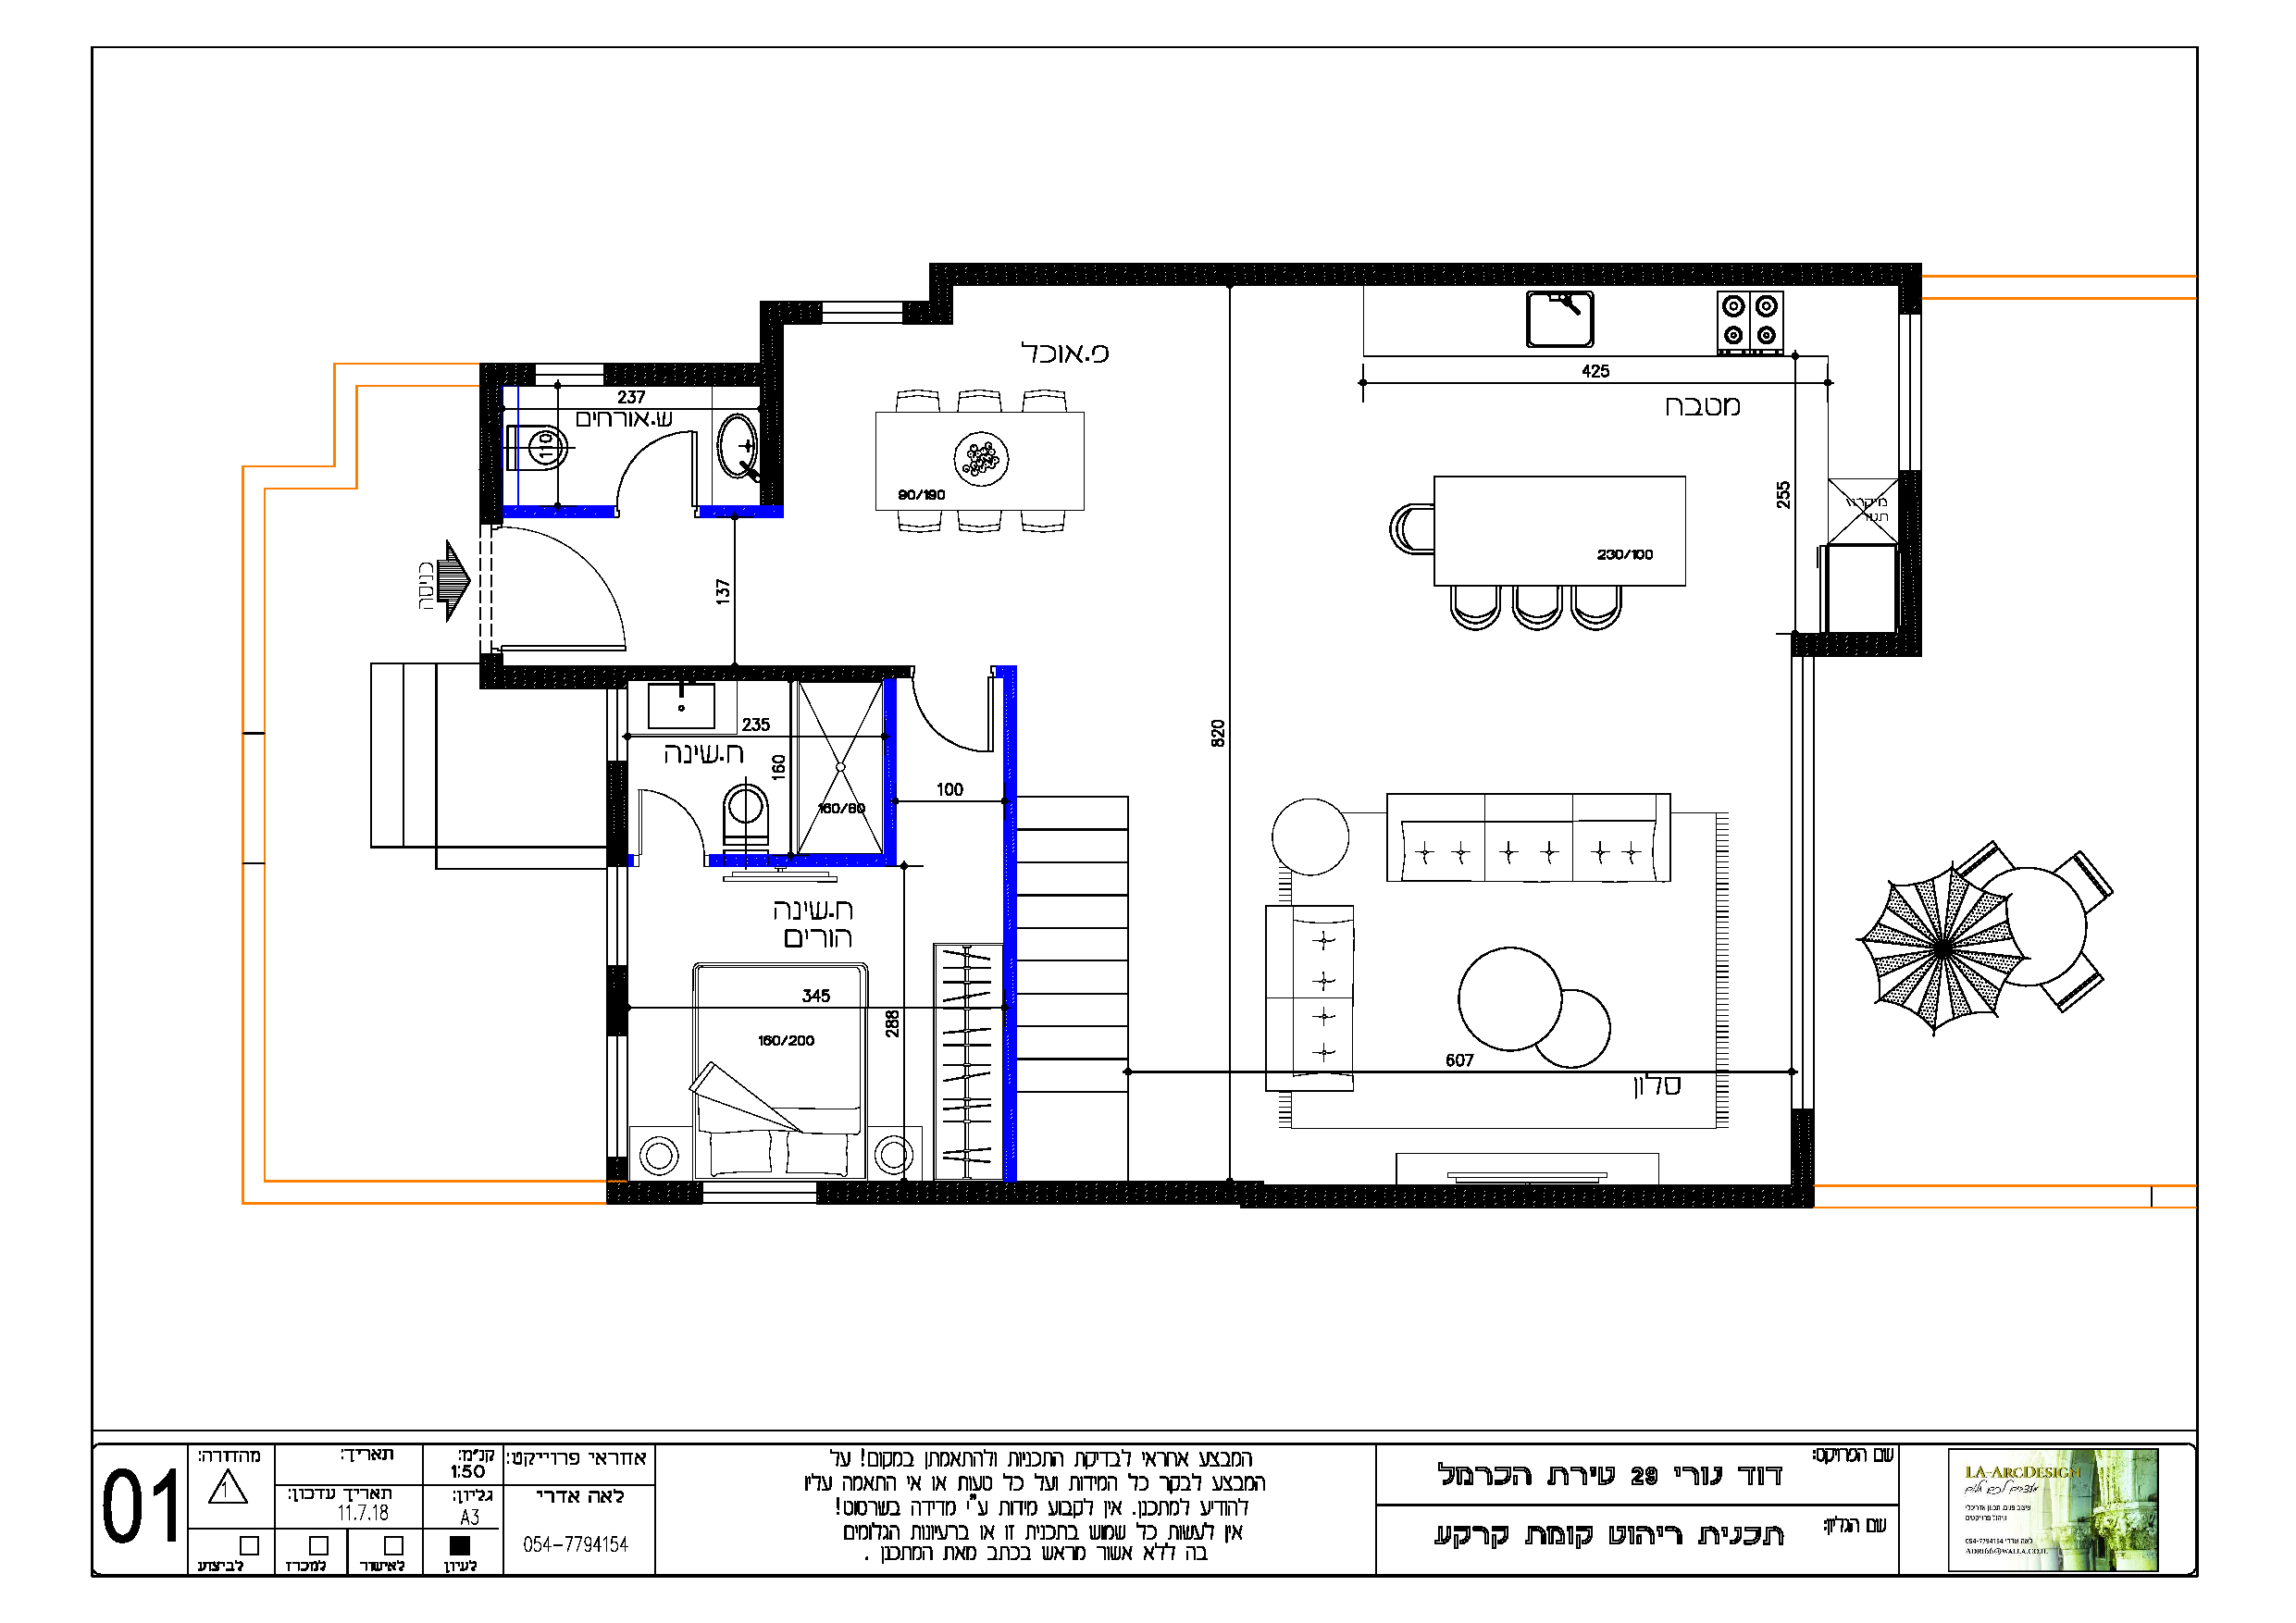door: (485, 522, 636, 660), (908, 678, 1005, 766), (606, 423, 704, 506), (634, 782, 710, 854)
wall: (938, 260, 1924, 286), (836, 1184, 1809, 1205), (1894, 485, 1920, 652), (759, 313, 782, 504), (611, 358, 762, 383), (481, 357, 499, 502), (492, 669, 599, 682), (1792, 1117, 1811, 1184)
window: (1787, 653, 1816, 1103), (1895, 314, 1915, 467), (604, 1035, 625, 1149), (704, 1184, 813, 1201), (819, 306, 905, 323), (538, 364, 603, 385), (606, 871, 620, 964), (606, 694, 625, 755)
